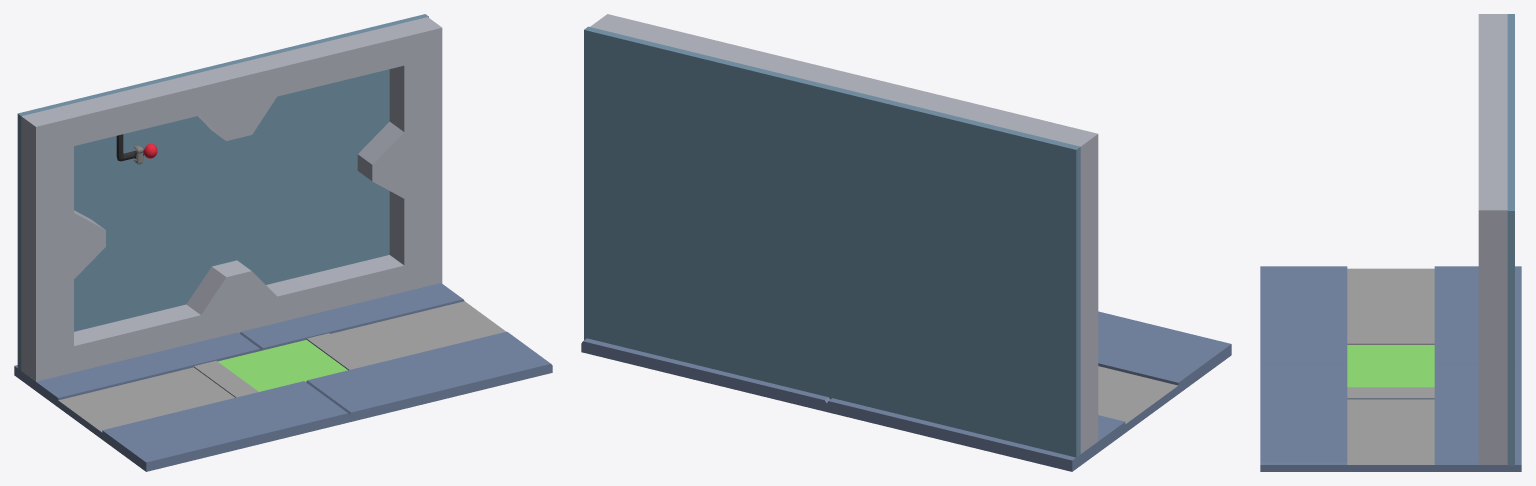
The model's file is sm_platformjetimp.fbx.
The picture shows the model from 3 angles, left to right: view 1: azimuth 30°, elevation 25°; view 2: azimuth 150°, elevation 25°; view 3: azimuth 270°, elevation 25°; orthographic projection. The views are drawn at different scales.
Visible parts, largest first — view 1: Border.001, Wall, Platform, Pipe; view 2: Wall, Platform, Border.001; view 3: Platform, Border.001, Wall.
Boxes of the visible parts, x1,y1,x2,y2 form: Border.001: (21,17,442,381); Wall: (17,14,428,370); Platform: (14,283,552,471); Pipe: (116,134,157,164); Wall: (584,26,1080,457); Platform: (581,311,1231,471); Border.001: (590,14,1098,453); Platform: (1260,266,1521,471); Border.001: (1478,14,1507,464); Wall: (1507,14,1514,465).
Bounding box in the file's own units: 3320 × 2056 × 1861.
